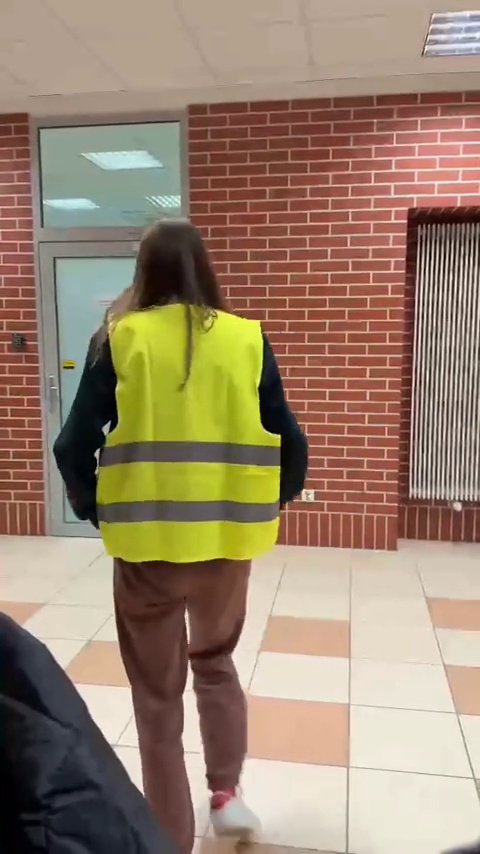vest: (56, 222, 331, 849)
